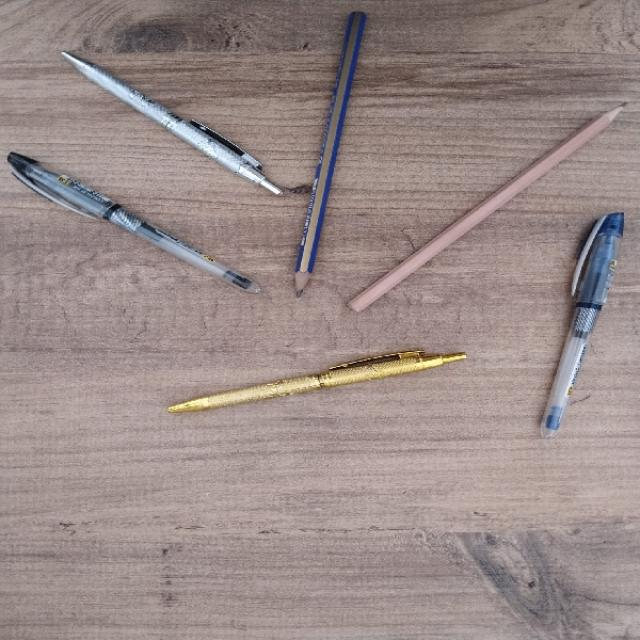pen: (7, 149, 261, 296), (541, 213, 620, 437)
pencil: (344, 98, 625, 319), (294, 10, 362, 293)
signature pen: (62, 52, 273, 193), (166, 351, 460, 413)
